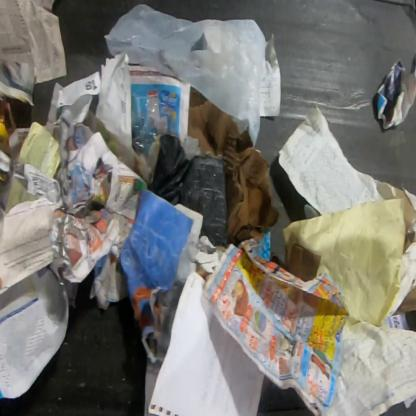cardboard: (188, 87, 280, 249)
soft_plastic: (103, 3, 266, 150), (131, 94, 172, 162)
